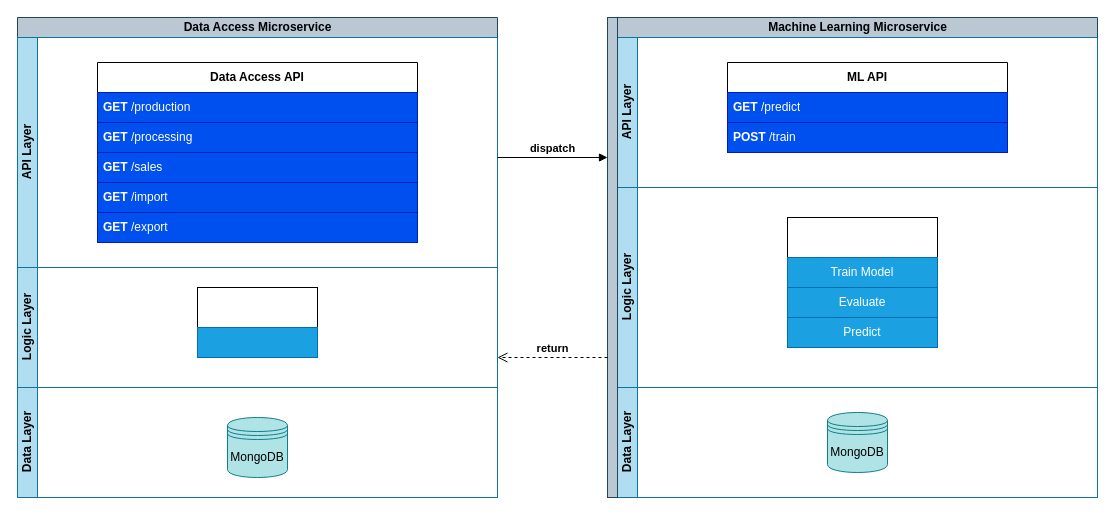
Some shapes in this 1115 by 515 pixel diagram are drawn without their labels. The shapes that lost their labels are listed below. From the top down, each one's centre as x and y in pixels, then its label:
At (862,237): "Model Management".
At (257,307): "Data Access Logic".
At (257,342): "Get data".
